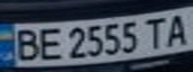2: (63, 24, 87, 61)
5: (118, 18, 145, 54), (84, 21, 106, 59), (103, 20, 124, 56)
A: (160, 10, 193, 47)
B: (9, 26, 42, 63)
E: (33, 25, 63, 62)
T: (139, 15, 172, 49)
